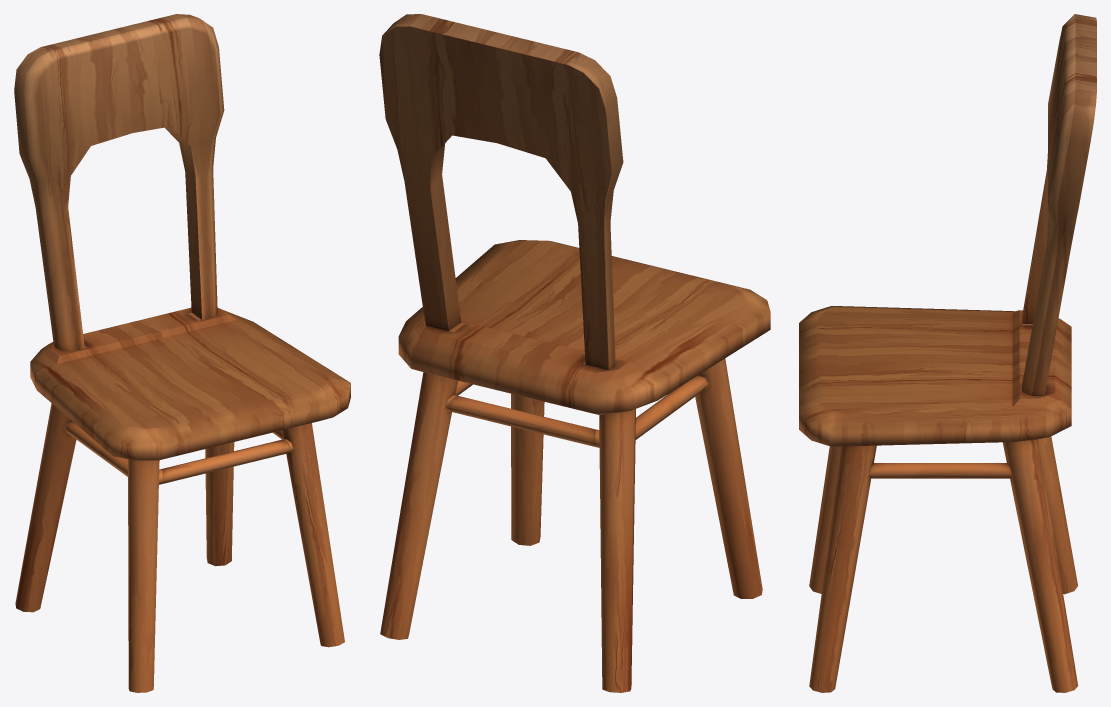
File: Chair02.FBX
3 renders of one model, left to right at view 1: azimuth 30°, elevation 25°; view 2: azimuth 150°, elevation 25°; view 3: azimuth 270°, elevation 25°, orthographic. The views are drawn at different scales.
Visible parts, largest first — view 1: Chair02; view 2: Chair02; view 3: Chair02.
Part boxes in pixels (x1=…): Chair02: x1=14, y1=14, x2=350, y2=692; Chair02: x1=379, y1=14, x2=770, y2=692; Chair02: x1=799, y1=14, x2=1096, y2=692.
Size of what is drawn, in the model's own units: 0.4515 by 0.992 by 0.4567.
